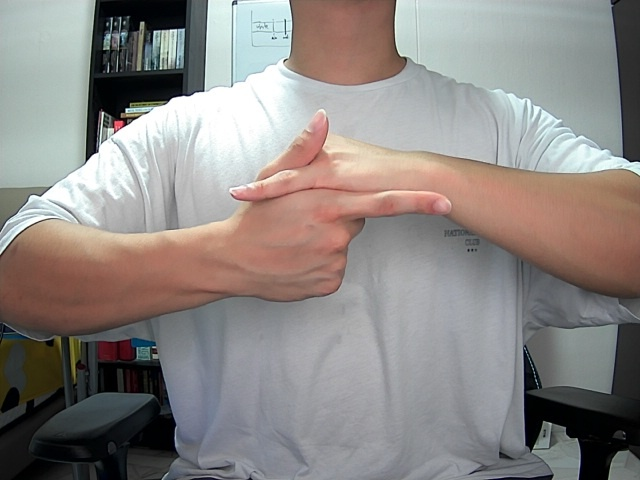Hare: (221, 101, 463, 326)
